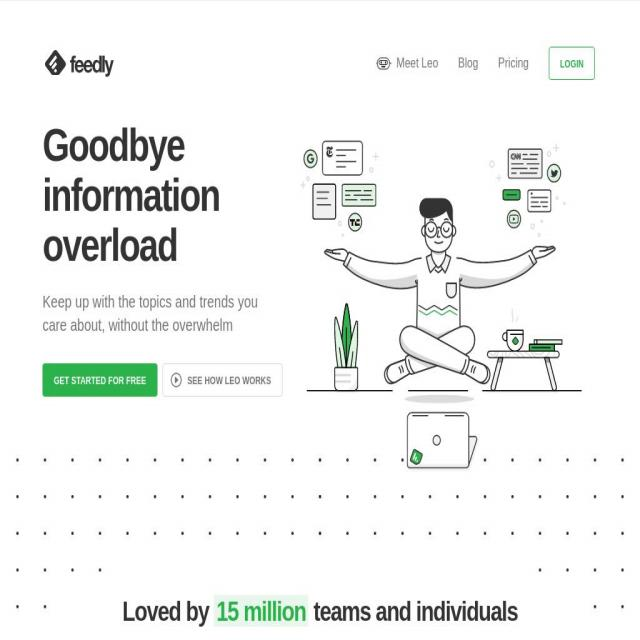login-option: (548, 45, 598, 83)
navigation-links: (374, 36, 534, 82)
